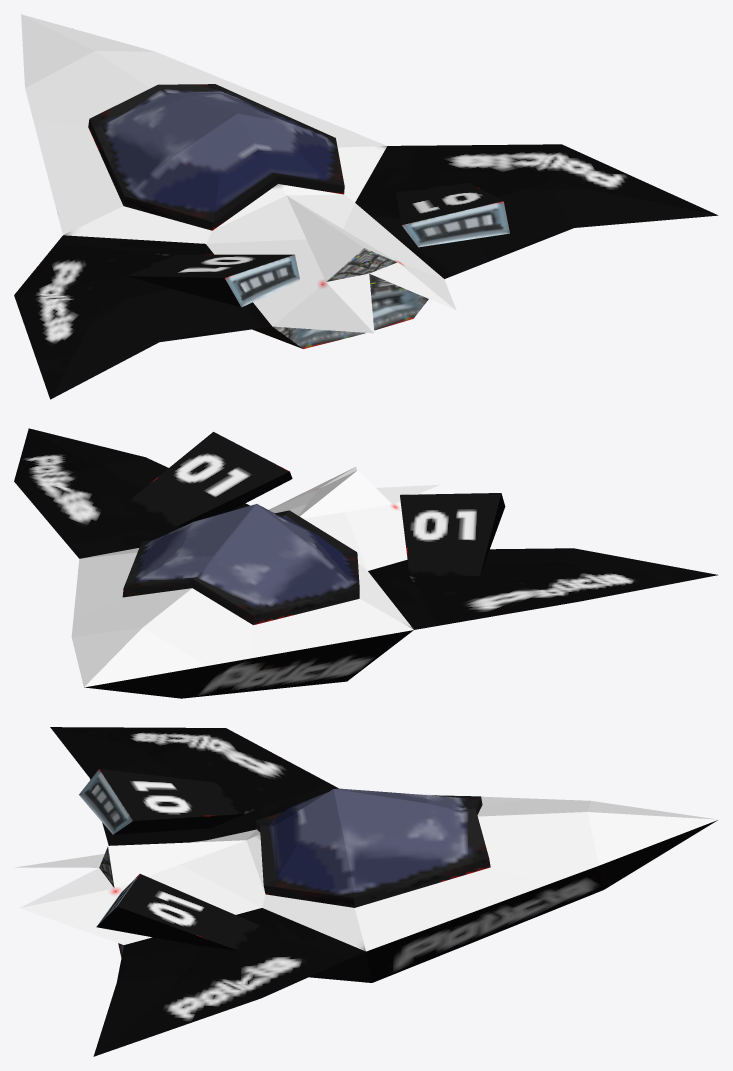
File: Nave enemiga.fbx
3 renders of one model, top to bottom at view 1: azimuth 30°, elevation 25°; view 2: azimuth 150°, elevation 25°; view 3: azimuth 270°, elevation 25°, orthographic. The views are drawn at different scales.
Visible parts, largest first — view 1: Cone; view 2: Cone; view 3: Cone.
Boxes of the visible parts, x1,y1,x2,y2 form: Cone: (14, 14, 718, 399); Cone: (14, 428, 717, 698); Cone: (15, 727, 718, 1056).
Size of the model in its own units: 1220 by 251 by 1104.
Materials: 1 (1 with a texture image).
